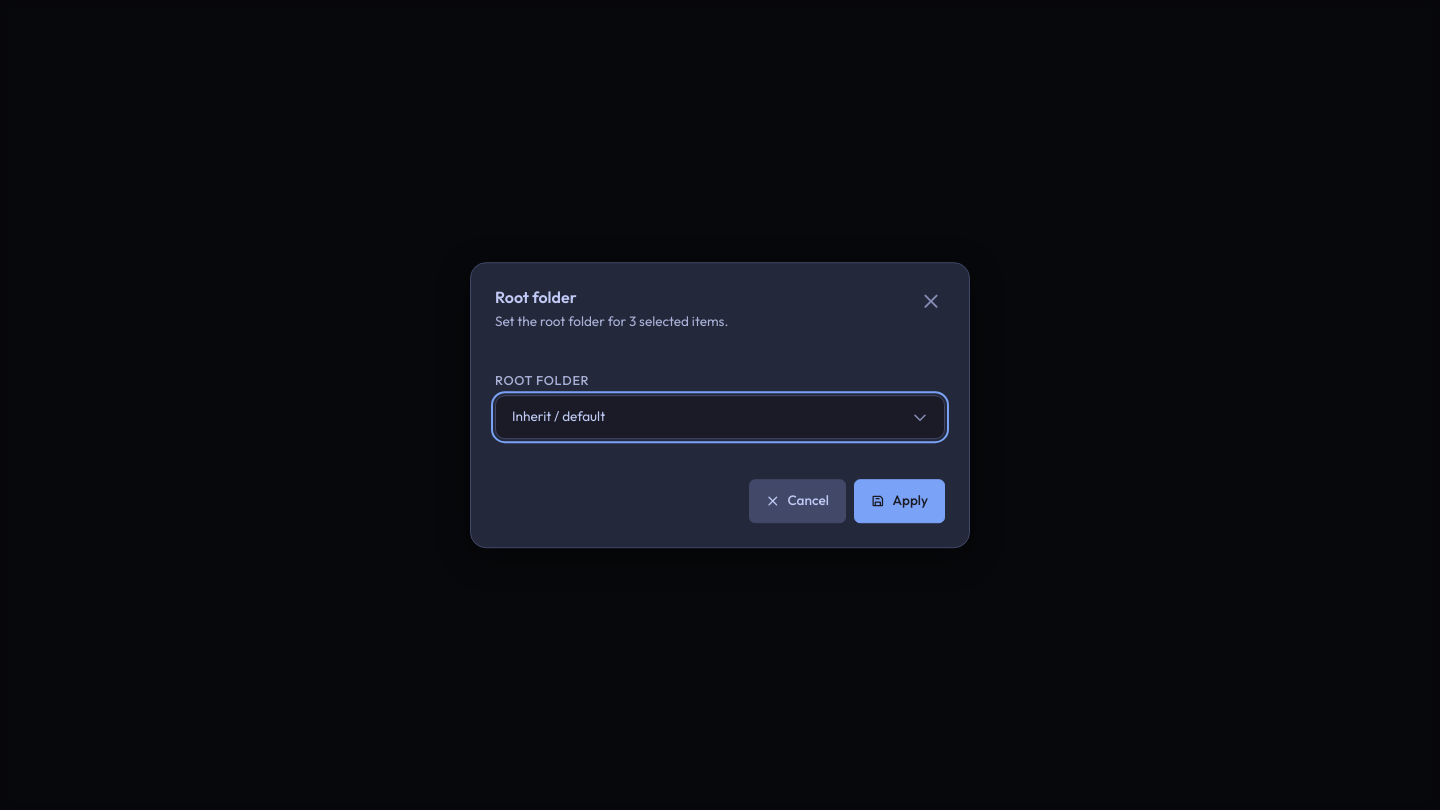
Test: BulkValuePicker › renders the title, description count, and an inherit option
This screenshot has width=1440, height=810.
Expected: the heading "Root folder" is shown, [495, 287, 577, 307]
Expected: the text "Set the root folder for 3 selected items." is shown, [495, 312, 728, 330]
Click the dropdown with test id "bulk-value-picker__select" at (559, 417), box [495, 395, 945, 439]
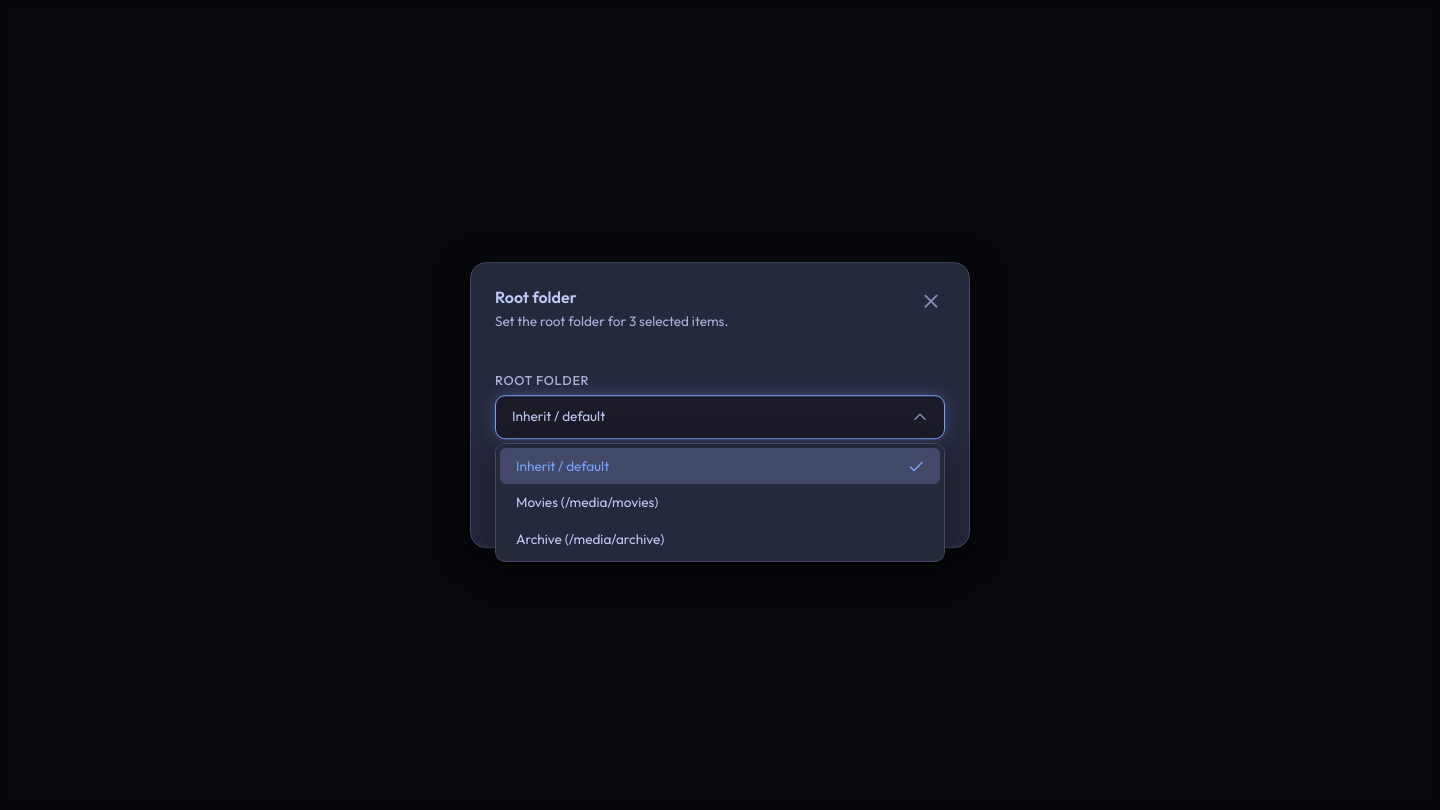
Result: the option "Inherit / default" is shown at [500, 448, 940, 484]
Result: the option "Movies (/media/movies)" is shown at [516, 493, 658, 511]
